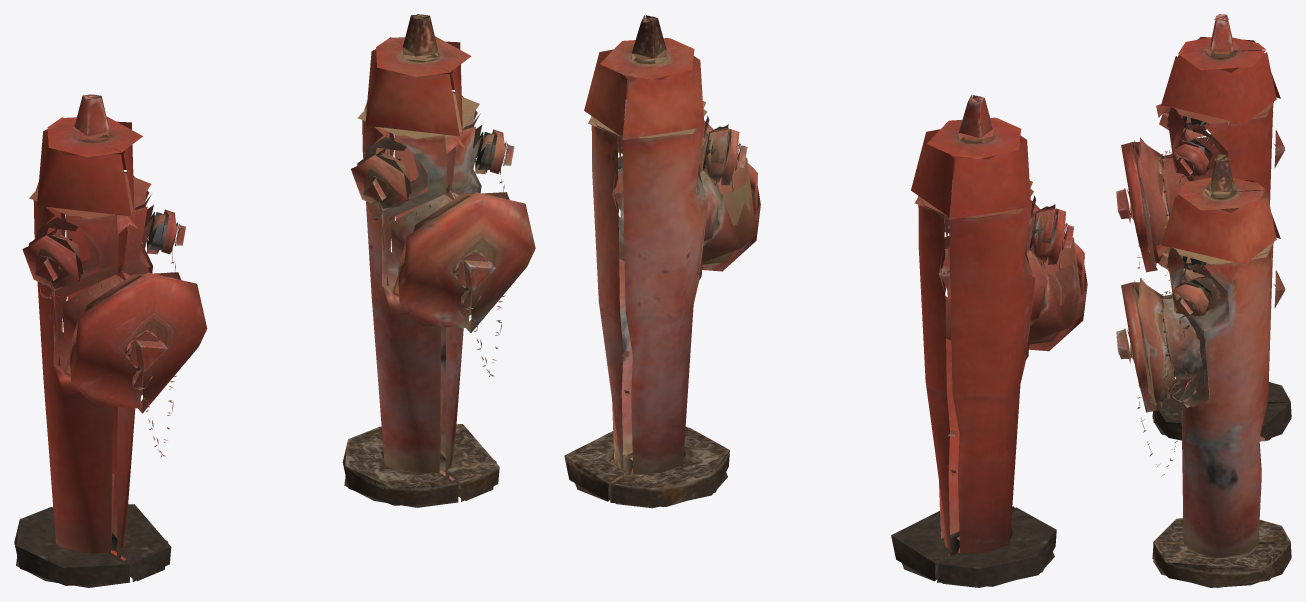
The model's file is fire_hydrant.glb.
The picture shows the model from 3 angles, left to right: view 1: azimuth 30°, elevation 25°; view 2: azimuth 150°, elevation 25°; view 3: azimuth 270°, elevation 25°; orthographic projection. The views are drawn at different scales.
Visible parts, largest first — view 1: fire_hydrant_aged, fire_hydrant, fire_hydrant_cap_01, fire_hydrant_cap_01_aged, fire_hydrant_cap_03_aged, fire_hydrant_cap_03, fire_hydrant_cap_02_aged, fire_hydrant_cap_02; view 2: fire_hydrant, fire_hydrant_aged, fire_hydrant_cap_01_aged, fire_hydrant_cap_01, fire_hydrant_cap_03, fire_hydrant_cap_03_aged; view 3: fire_hydrant_aged, fire_hydrant, fire_hydrant_cap_01_aged, fire_hydrant_cap_01, fire_hydrant_cap_02, fire_hydrant_cap_02_aged, fire_hydrant_chain_aged.
Boxes of the visible parts, x1,y1,x2,y2 form: fire_hydrant_aged: [342, 14, 514, 507]; fire_hydrant: [14, 94, 185, 587]; fire_hydrant_cap_01: [69, 272, 207, 413]; fire_hydrant_cap_01_aged: [398, 192, 535, 332]; fire_hydrant_cap_03_aged: [351, 153, 410, 208]; fire_hydrant_cap_03: [22, 233, 81, 288]; fire_hydrant_cap_02_aged: [485, 129, 514, 174]; fire_hydrant_cap_02: [157, 209, 185, 254]; fire_hydrant: [891, 94, 1083, 587]; fire_hydrant_aged: [564, 14, 756, 508]; fire_hydrant_cap_01_aged: [702, 120, 760, 271]; fire_hydrant_cap_01: [1029, 200, 1087, 351]; fire_hydrant_cap_03: [1043, 204, 1074, 264]; fire_hydrant_cap_03_aged: [716, 124, 747, 184]; fire_hydrant_aged: [1138, 154, 1291, 587]; fire_hydrant: [1138, 14, 1291, 440]; fire_hydrant_cap_01_aged: [1116, 280, 1157, 412]; fire_hydrant_cap_01: [1116, 140, 1157, 272]; fire_hydrant_cap_02: [1172, 141, 1208, 176]; fire_hydrant_cap_02_aged: [1172, 282, 1208, 316]; fire_hydrant_chain_aged: [1128, 290, 1196, 475].
Bounding box in the file's own units: 0.8777 × 0.8007 × 0.3173.
2 materials, 2 textured.
